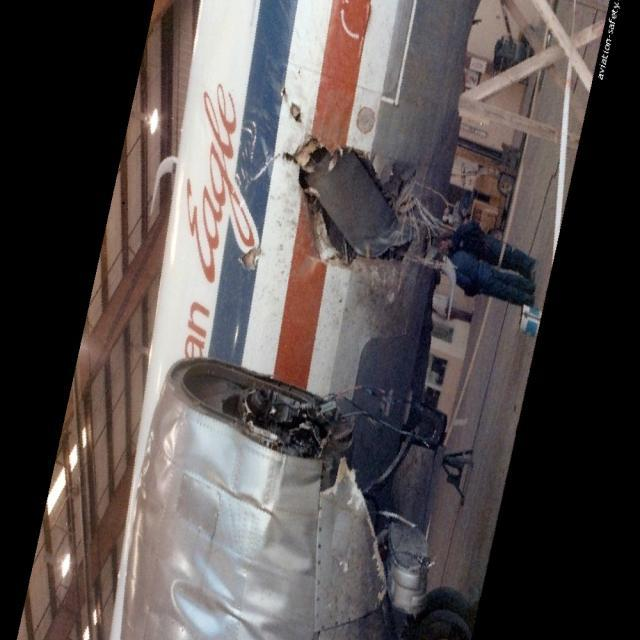dent: (170, 579, 257, 640), (264, 527, 314, 577)
